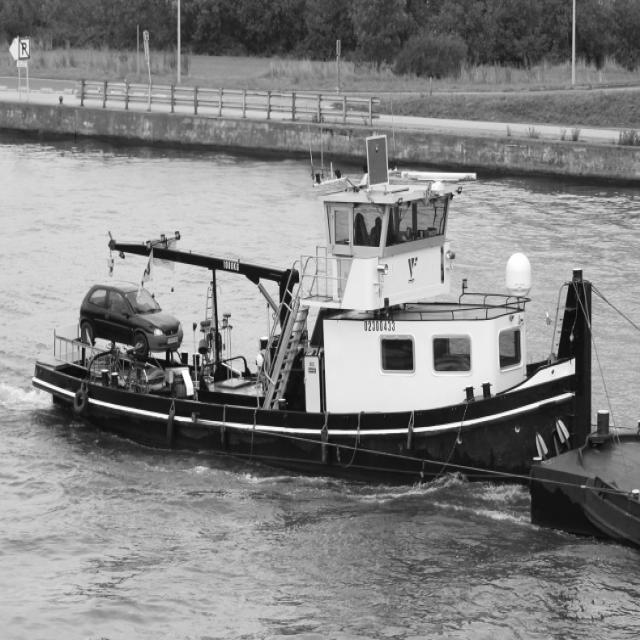tugboat: (30, 130, 597, 505)
